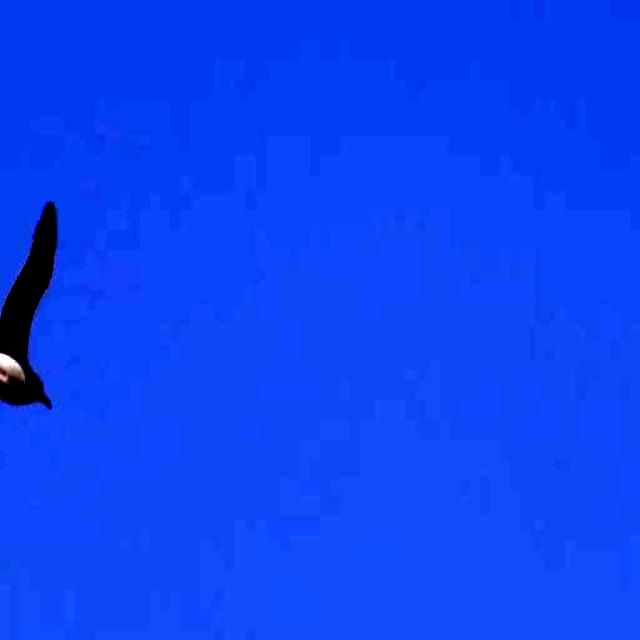airplane: (0, 188, 68, 521)
